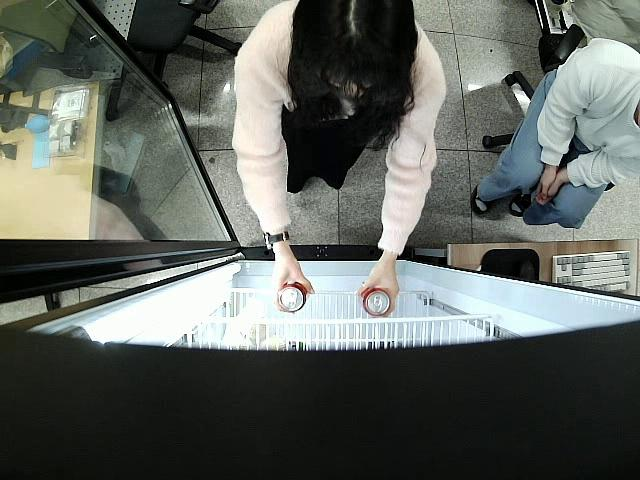00_hand: (267, 255, 317, 315), (353, 259, 399, 319)
11_cocaColaZero: (357, 285, 391, 317), (277, 280, 307, 313)
